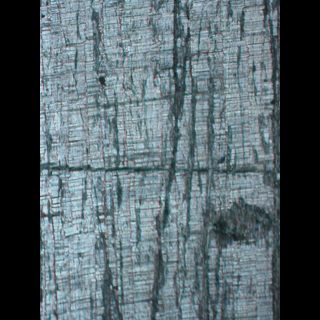d: (208, 191, 279, 250)
